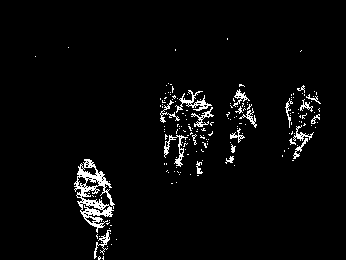person: (73, 157, 115, 260), (226, 82, 257, 164), (190, 90, 213, 174), (294, 91, 320, 161), (160, 82, 179, 174), (176, 90, 194, 170), (286, 84, 304, 144)
